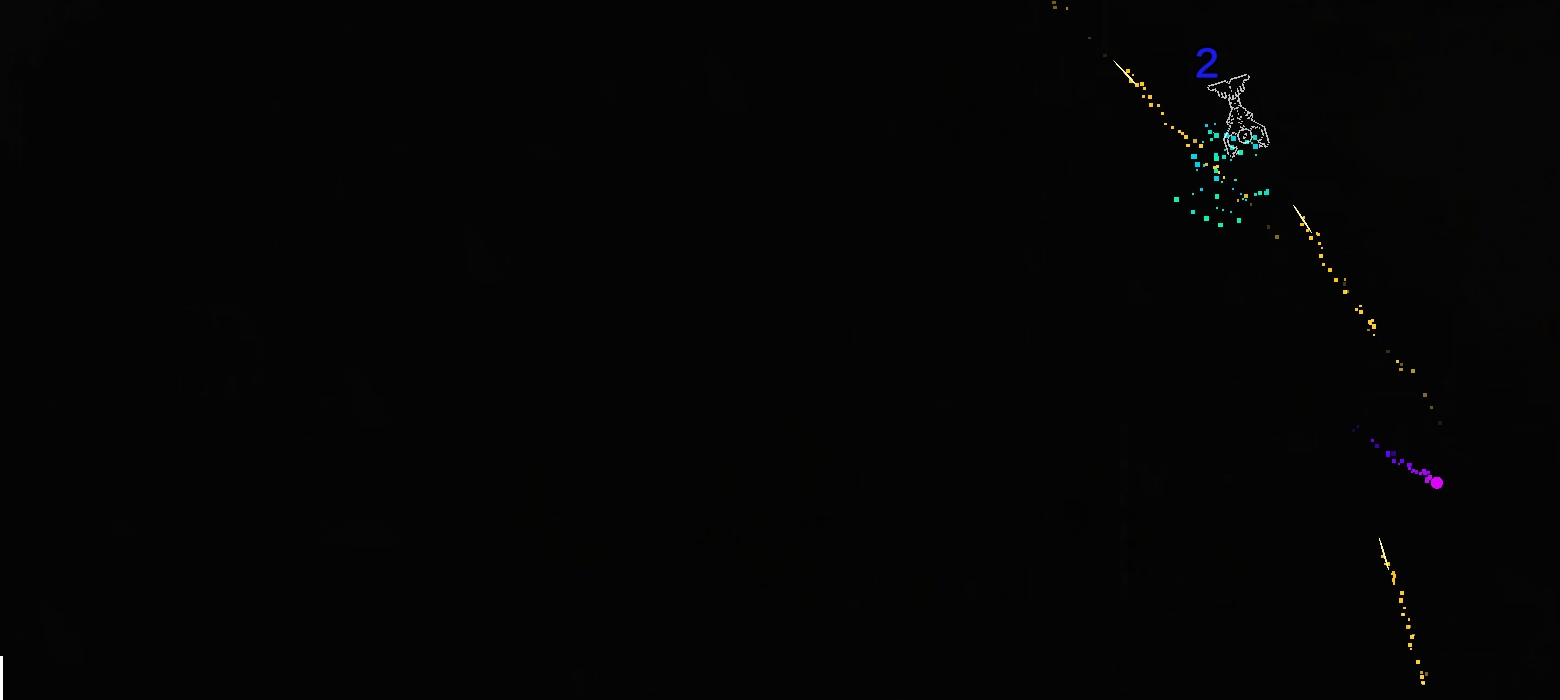enemy: (1206, 74, 1270, 158)
